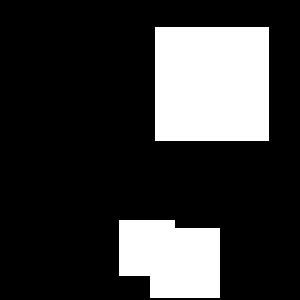circle: (155, 27, 269, 141), (150, 228, 220, 298), (119, 220, 175, 276)
